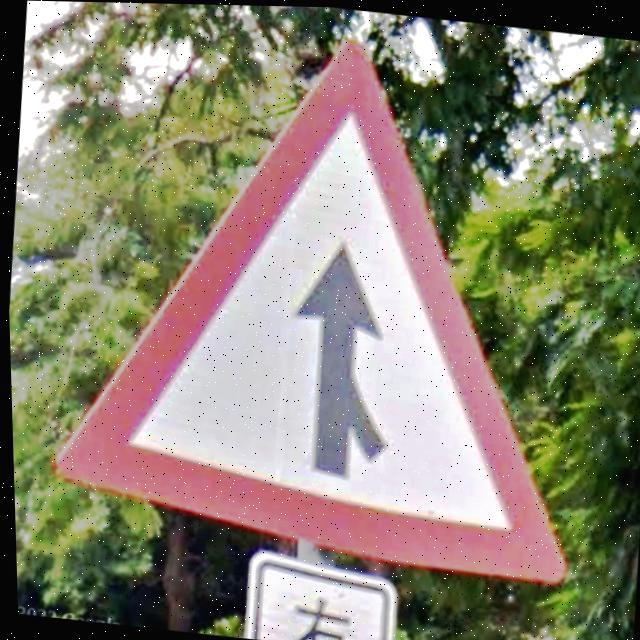rightmerge: (52, 38, 562, 584)
